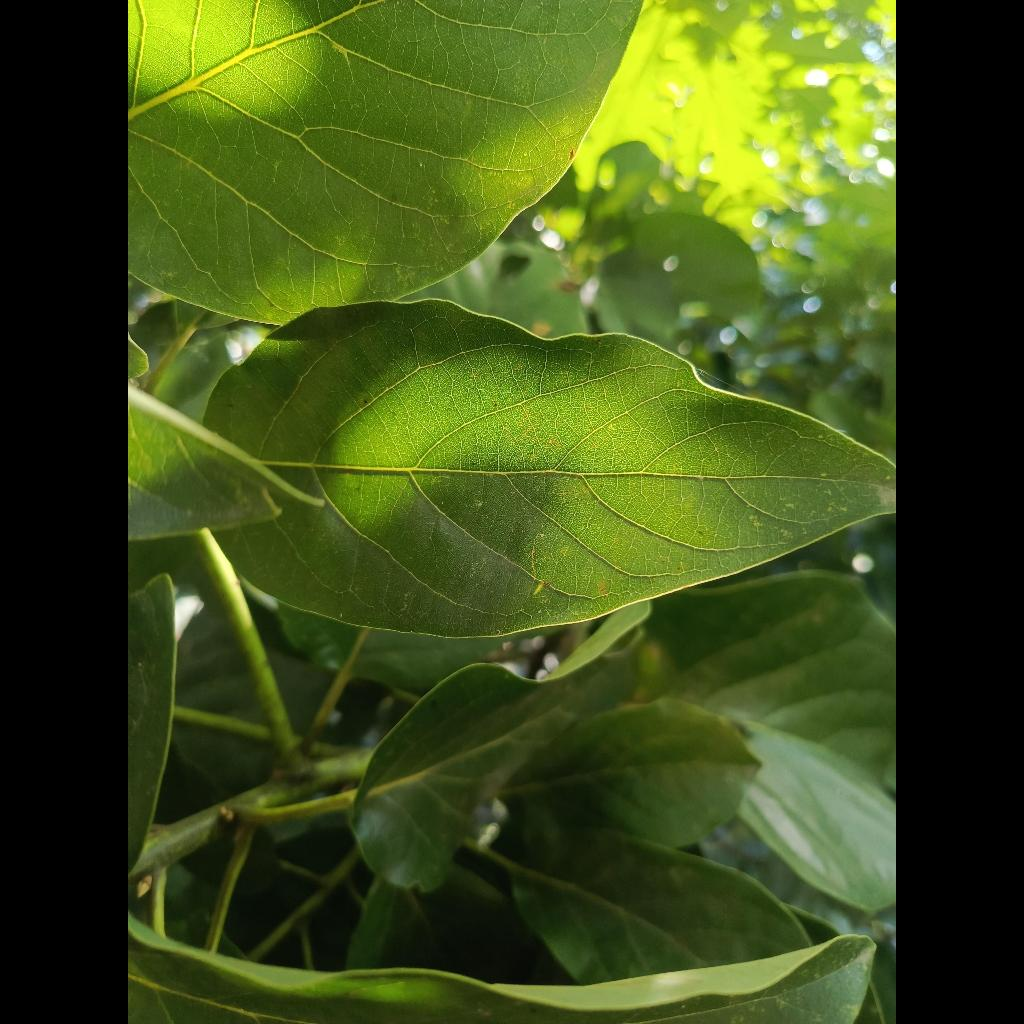hoja_sana: (206, 300, 896, 637), (128, 0, 640, 323)
